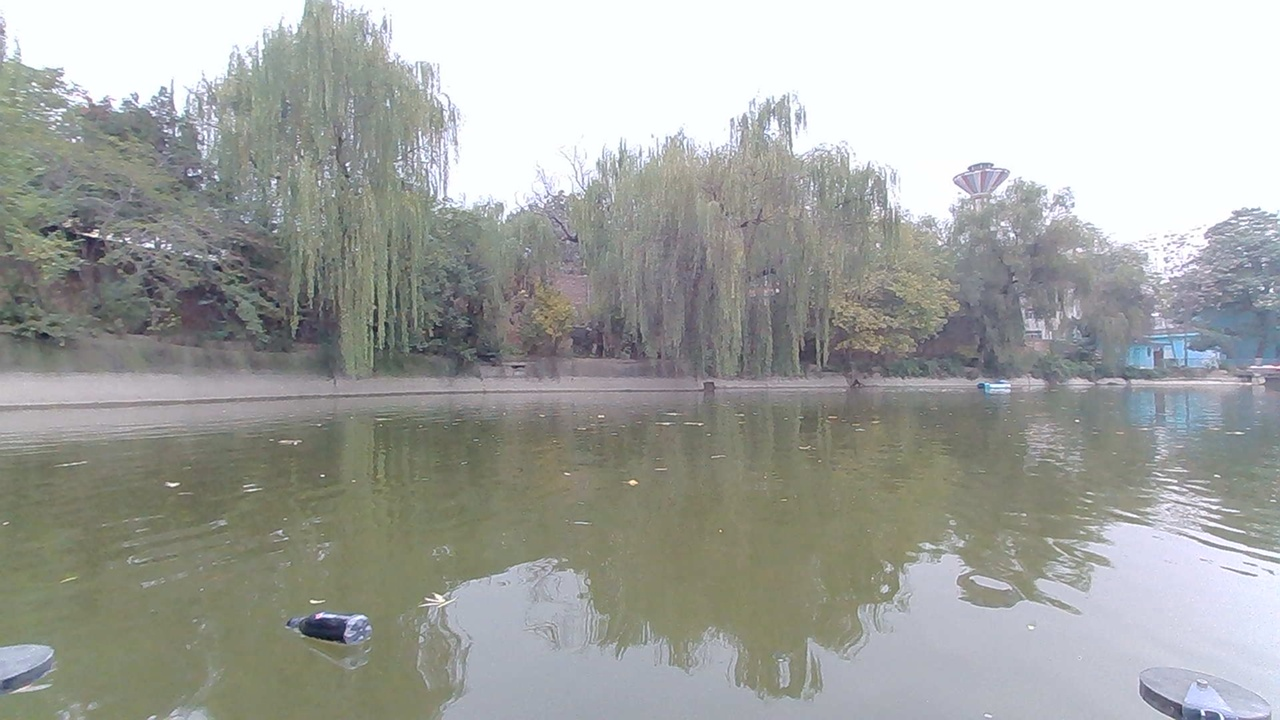bottle: (309, 613, 363, 647)
